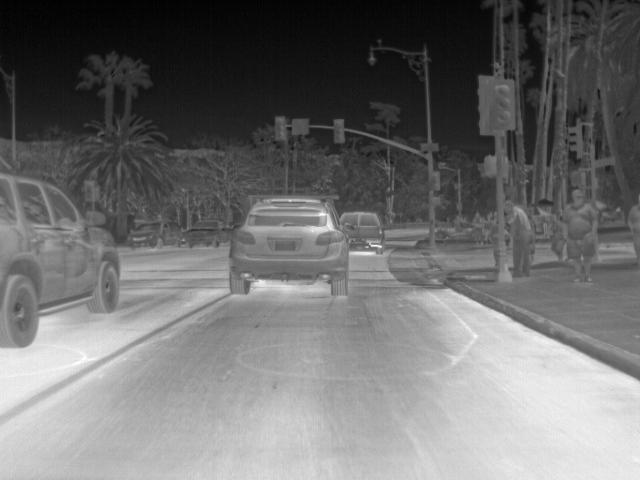car: (0, 169, 124, 348), (227, 197, 351, 300), (337, 210, 385, 254), (127, 220, 183, 248), (185, 218, 233, 250)
person: (562, 189, 598, 285), (501, 200, 535, 276), (623, 200, 638, 260), (469, 210, 487, 247)
